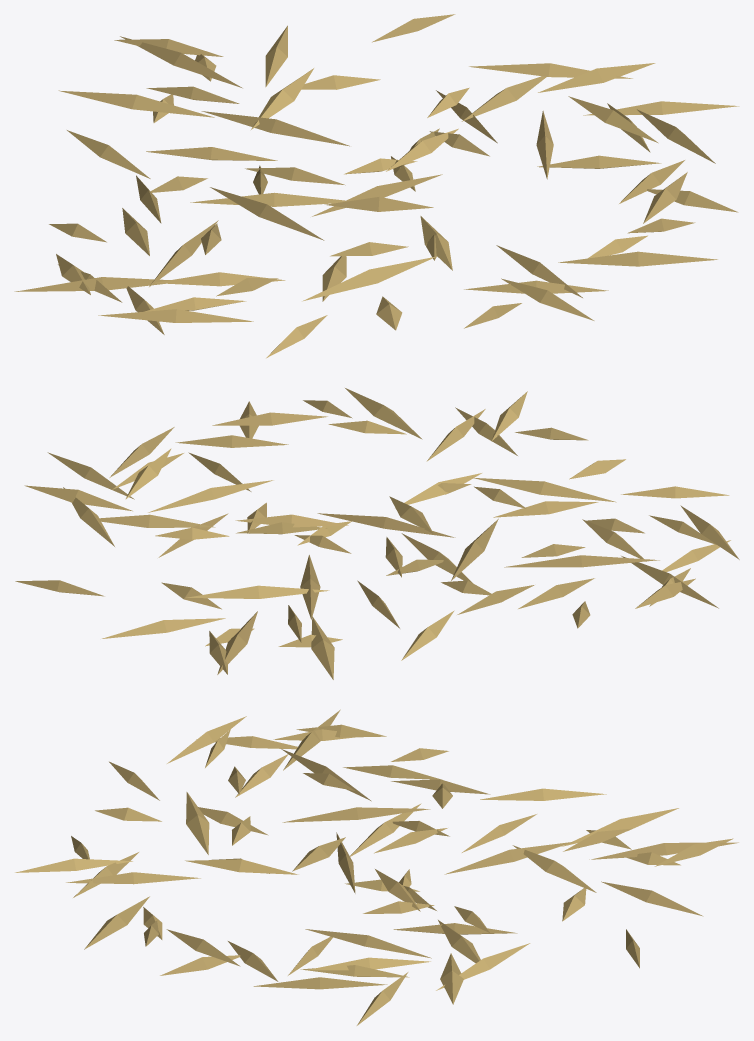
File: straw_floor_patch_a.glb
3 views of the same model, one above another, from view 1: azimuth 30°, elevation 25°; view 2: azimuth 150°, elevation 25°; view 3: azimuth 270°, elevation 25° (orthographic). The views are drawn at different scales.
Visible parts, largest first — view 1: geometry; view 2: geometry; view 3: geometry.
Part boxes in pixels (x1,y1,x2,y2): geometry: (14, 14, 739, 358); geometry: (15, 388, 739, 679); geometry: (15, 709, 738, 1025).
Size of the model in its own units: 0.8075 by 0.0262 by 0.7802.
